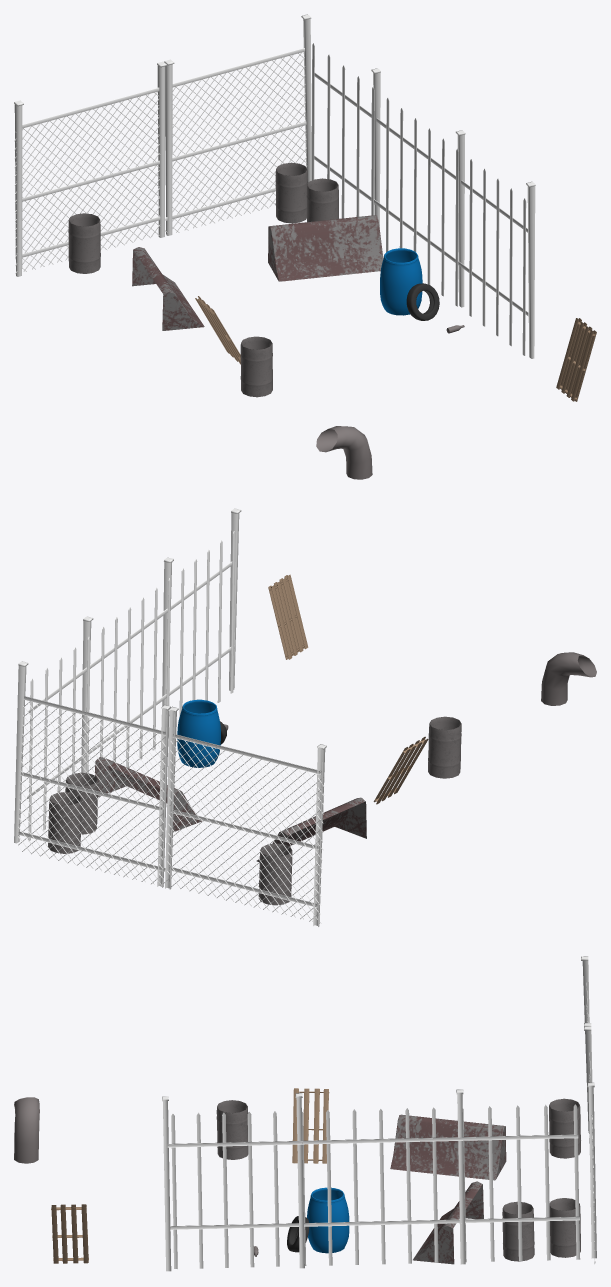
The model's file is street asset.glb.
The picture shows the model from 3 angles, top to bottom: view 1: azimuth 30°, elevation 25°; view 2: azimuth 150°, elevation 25°; view 3: azimuth 270°, elevation 25°; orthographic projection. The views are drawn at different scales.
Parts seen in each view (by area): view 1: Metal_07_geo, Metal_02_geo, asset_01, asset_02, drum_02, drum_03, drum_01, pipe, drum_04, woodPLate1, drum_05, tyer (+1 smaller); view 2: Metal_07_geo, Metal_02_geo, drum_02, asset_01, drum_01, woodPLate1, asset_02, drum_03, drum_04, pipe, drum_05, woodPLate; view 3: Metal_02_geo, asset_02, drum_02, asset_01, Metal_07_geo, pipe, drum_03, drum_01, woodPLate, drum_05, drum_04, woodPLate1 (+1 smaller).
Part boxes in pixels (x1,y1,x2,y2): Metal_07_geo: [14, 14, 311, 276]; Metal_02_geo: [311, 43, 535, 358]; asset_01: [268, 215, 383, 281]; asset_02: [132, 247, 204, 330]; drum_02: [380, 248, 422, 315]; drum_03: [68, 213, 100, 273]; drum_01: [240, 336, 272, 397]; pipe: [316, 426, 372, 479]; drum_04: [275, 162, 307, 223]; woodPLate1: [556, 318, 596, 401]; drum_05: [306, 178, 339, 222]; tyer: [406, 283, 439, 320]; Metal_07_geo: [14, 661, 326, 926]; Metal_02_geo: [27, 508, 241, 840]; drum_02: [177, 699, 220, 767]; asset_01: [95, 757, 201, 832]; drum_01: [428, 716, 461, 778]; woodPLate1: [268, 574, 308, 659]; asset_02: [256, 797, 366, 861]; drum_03: [258, 843, 292, 905]; drum_04: [48, 792, 81, 853]; pipe: [541, 652, 596, 705]; drum_05: [65, 772, 98, 834]; woodPLate: [373, 736, 428, 804]; Metal_02_geo: [162, 1089, 580, 1271]; asset_02: [390, 1114, 506, 1180]; drum_02: [307, 1187, 349, 1253]; asset_01: [413, 1181, 483, 1264]; Metal_07_geo: [581, 956, 596, 1263]; pipe: [14, 1097, 39, 1163]; drum_03: [549, 1098, 580, 1158]; drum_01: [216, 1100, 248, 1159]; woodPLate: [292, 1088, 329, 1163]; drum_05: [502, 1201, 534, 1261]; drum_04: [549, 1198, 580, 1257]; woodPLate1: [51, 1204, 88, 1263].
Bounding box in the file's own units: 1.3 × 0.7604 × 2.15.
2 materials, 1 textured.
